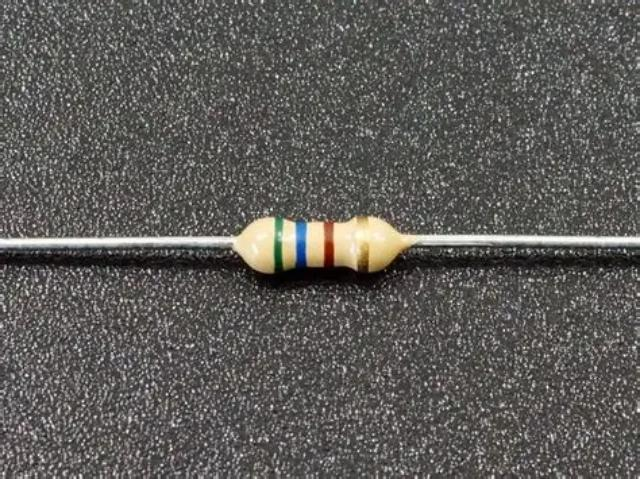blue: (295, 219, 307, 268)
brown: (325, 220, 334, 267)
gold: (357, 215, 369, 273)
green: (273, 215, 283, 272)
resistor: (235, 204, 413, 282)
